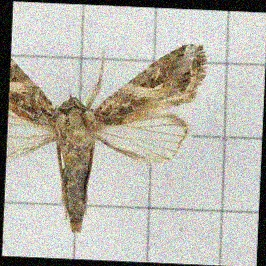Spodoptera litura: (7, 40, 204, 235)
